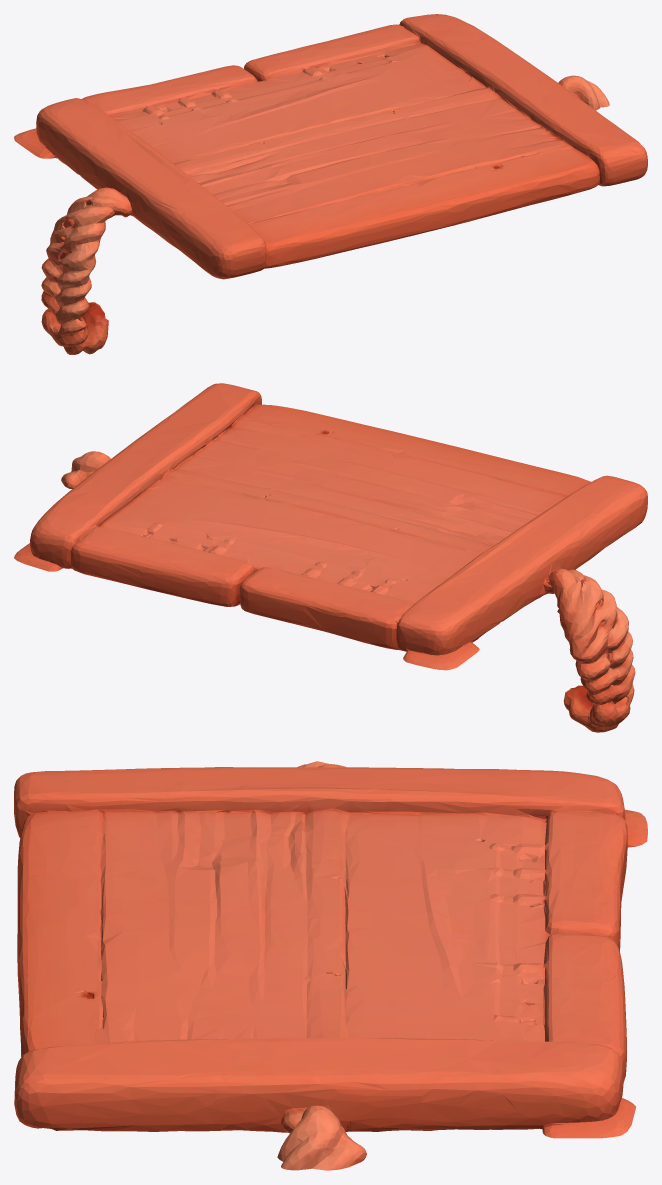
Rendered from lid.glb.
3 renders of one model, top to bottom at view 1: azimuth 30°, elevation 25°; view 2: azimuth 150°, elevation 25°; view 3: azimuth 270°, elevation 25°, orthographic. The views are drawn at different scales.
Visible parts, largest first — view 1: source_surface_0; view 2: source_surface_0; view 3: source_surface_0.
Boxes of the visible parts, x1,y1,x2,y2 form: source_surface_0: (14, 14, 647, 354); source_surface_0: (14, 383, 647, 732); source_surface_0: (14, 761, 647, 1170).
Bounding box in the file's own units: 0.1727 × 0.0498 × 0.1133.
Materials: 1 (1 with a texture image).
